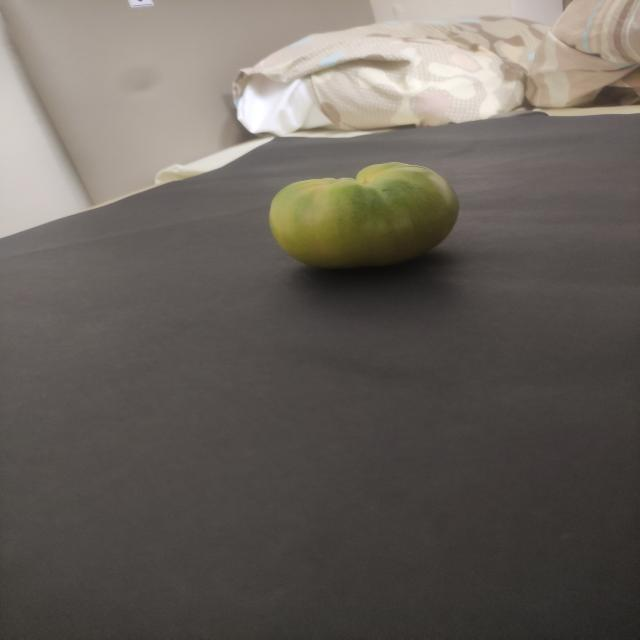yesil: (238, 156, 481, 277)
